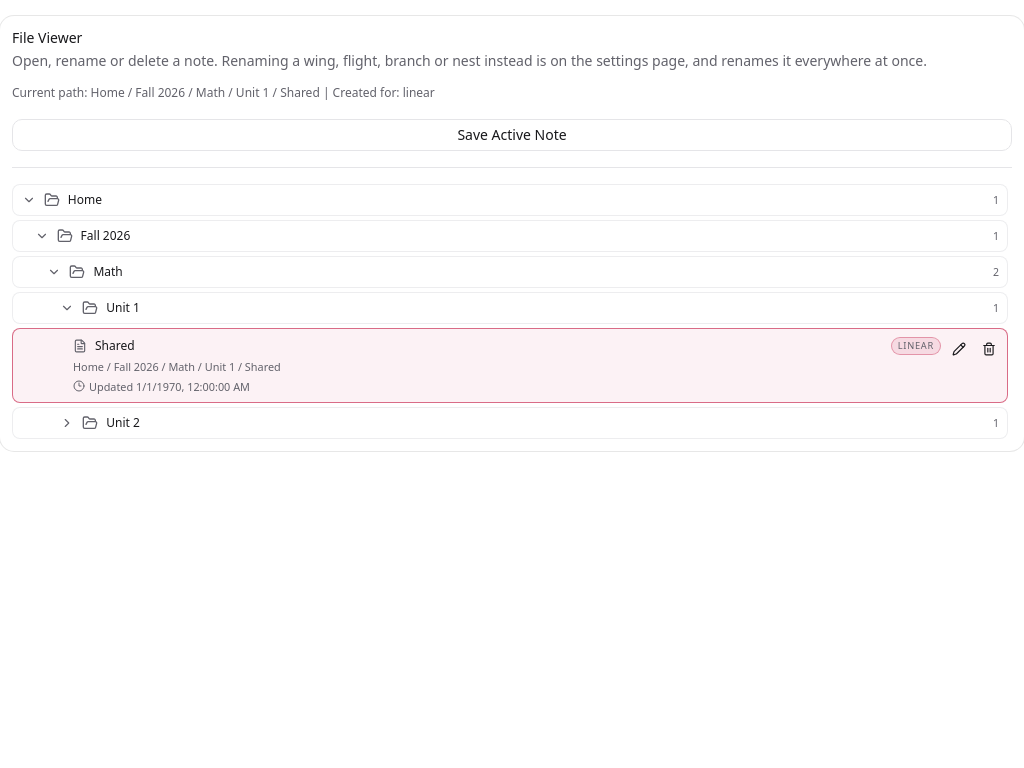
it: NotesFileViewer › lists a note tagged with two nests under each of them
Expected: the number of buttons named "Open Shared" is 1, [73,329,941,402]
Click the button "Unit 2 1" at (123, 423), box [12,407,1008,439]
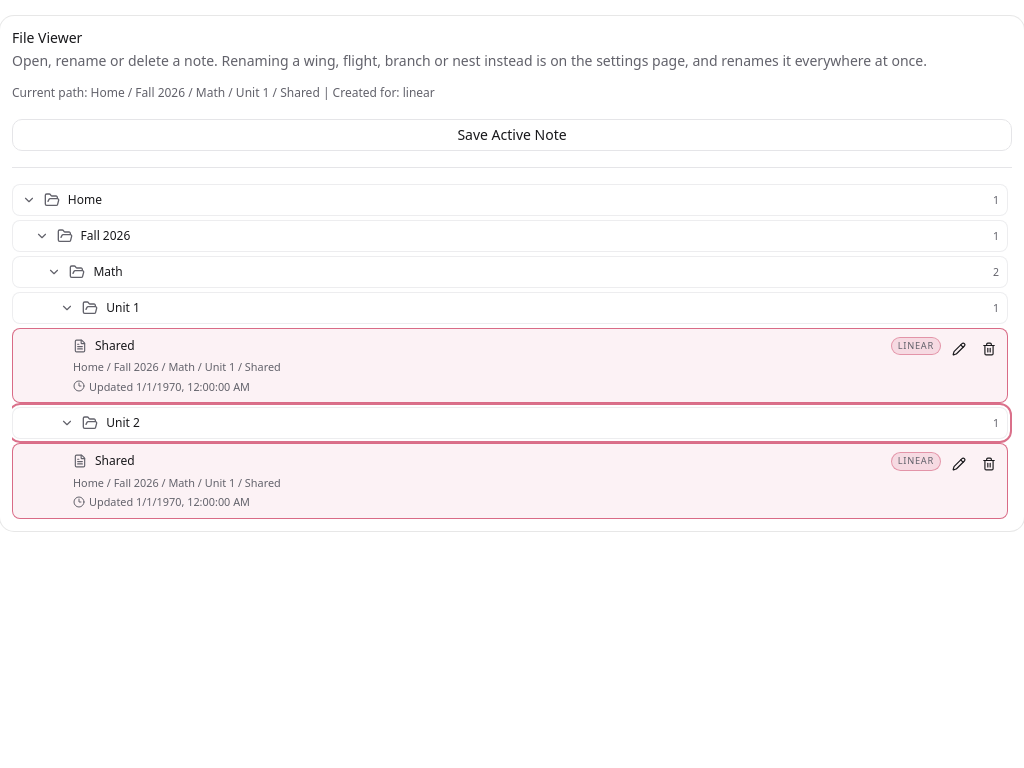
Expected: the number of buttons named "Open Shared" is 2, [73,329,941,402]; [73,444,941,518]
